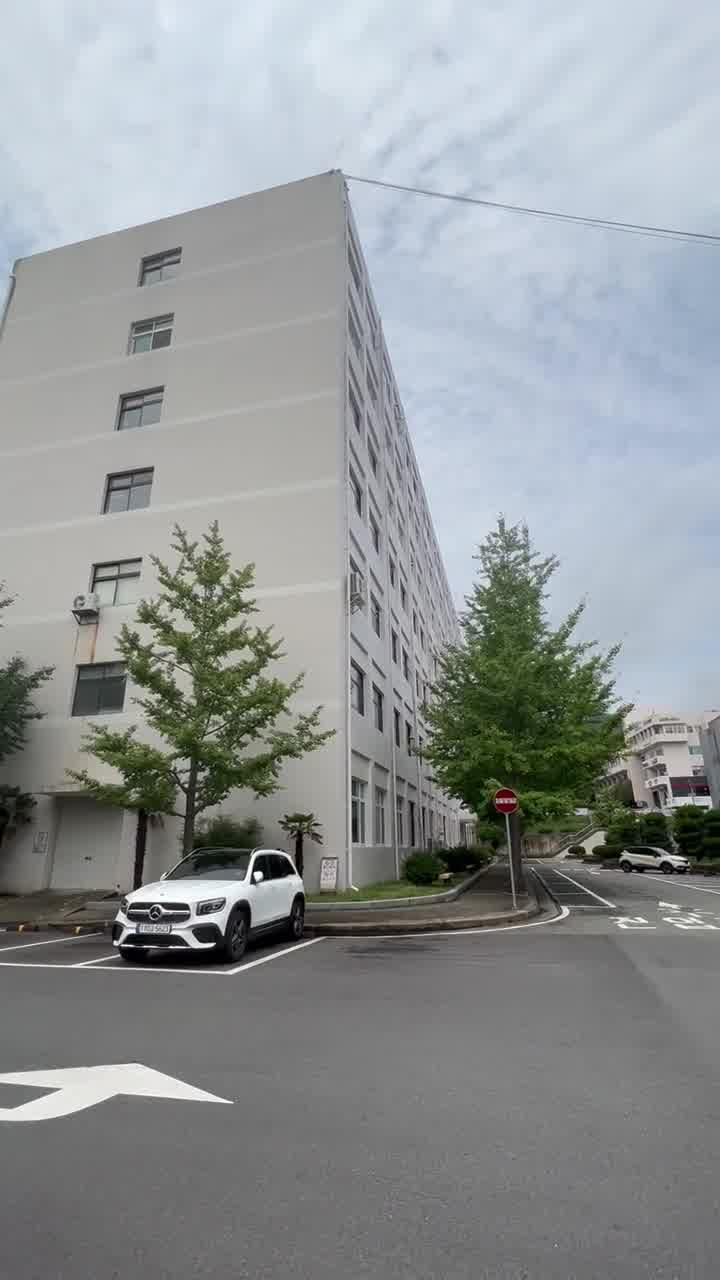building: (0, 214, 408, 586)
